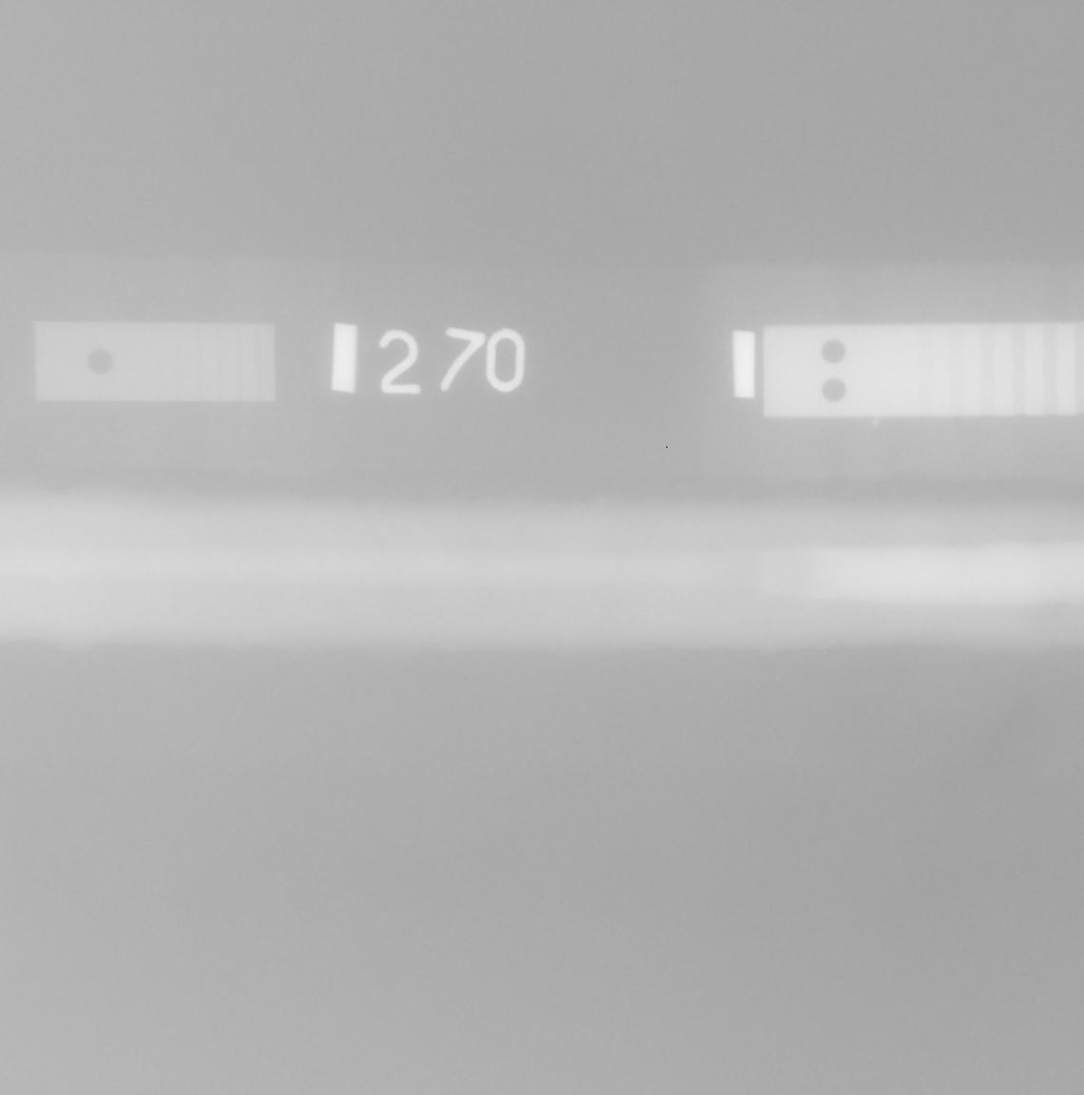Reference Standard 1: (35, 321, 276, 402)
